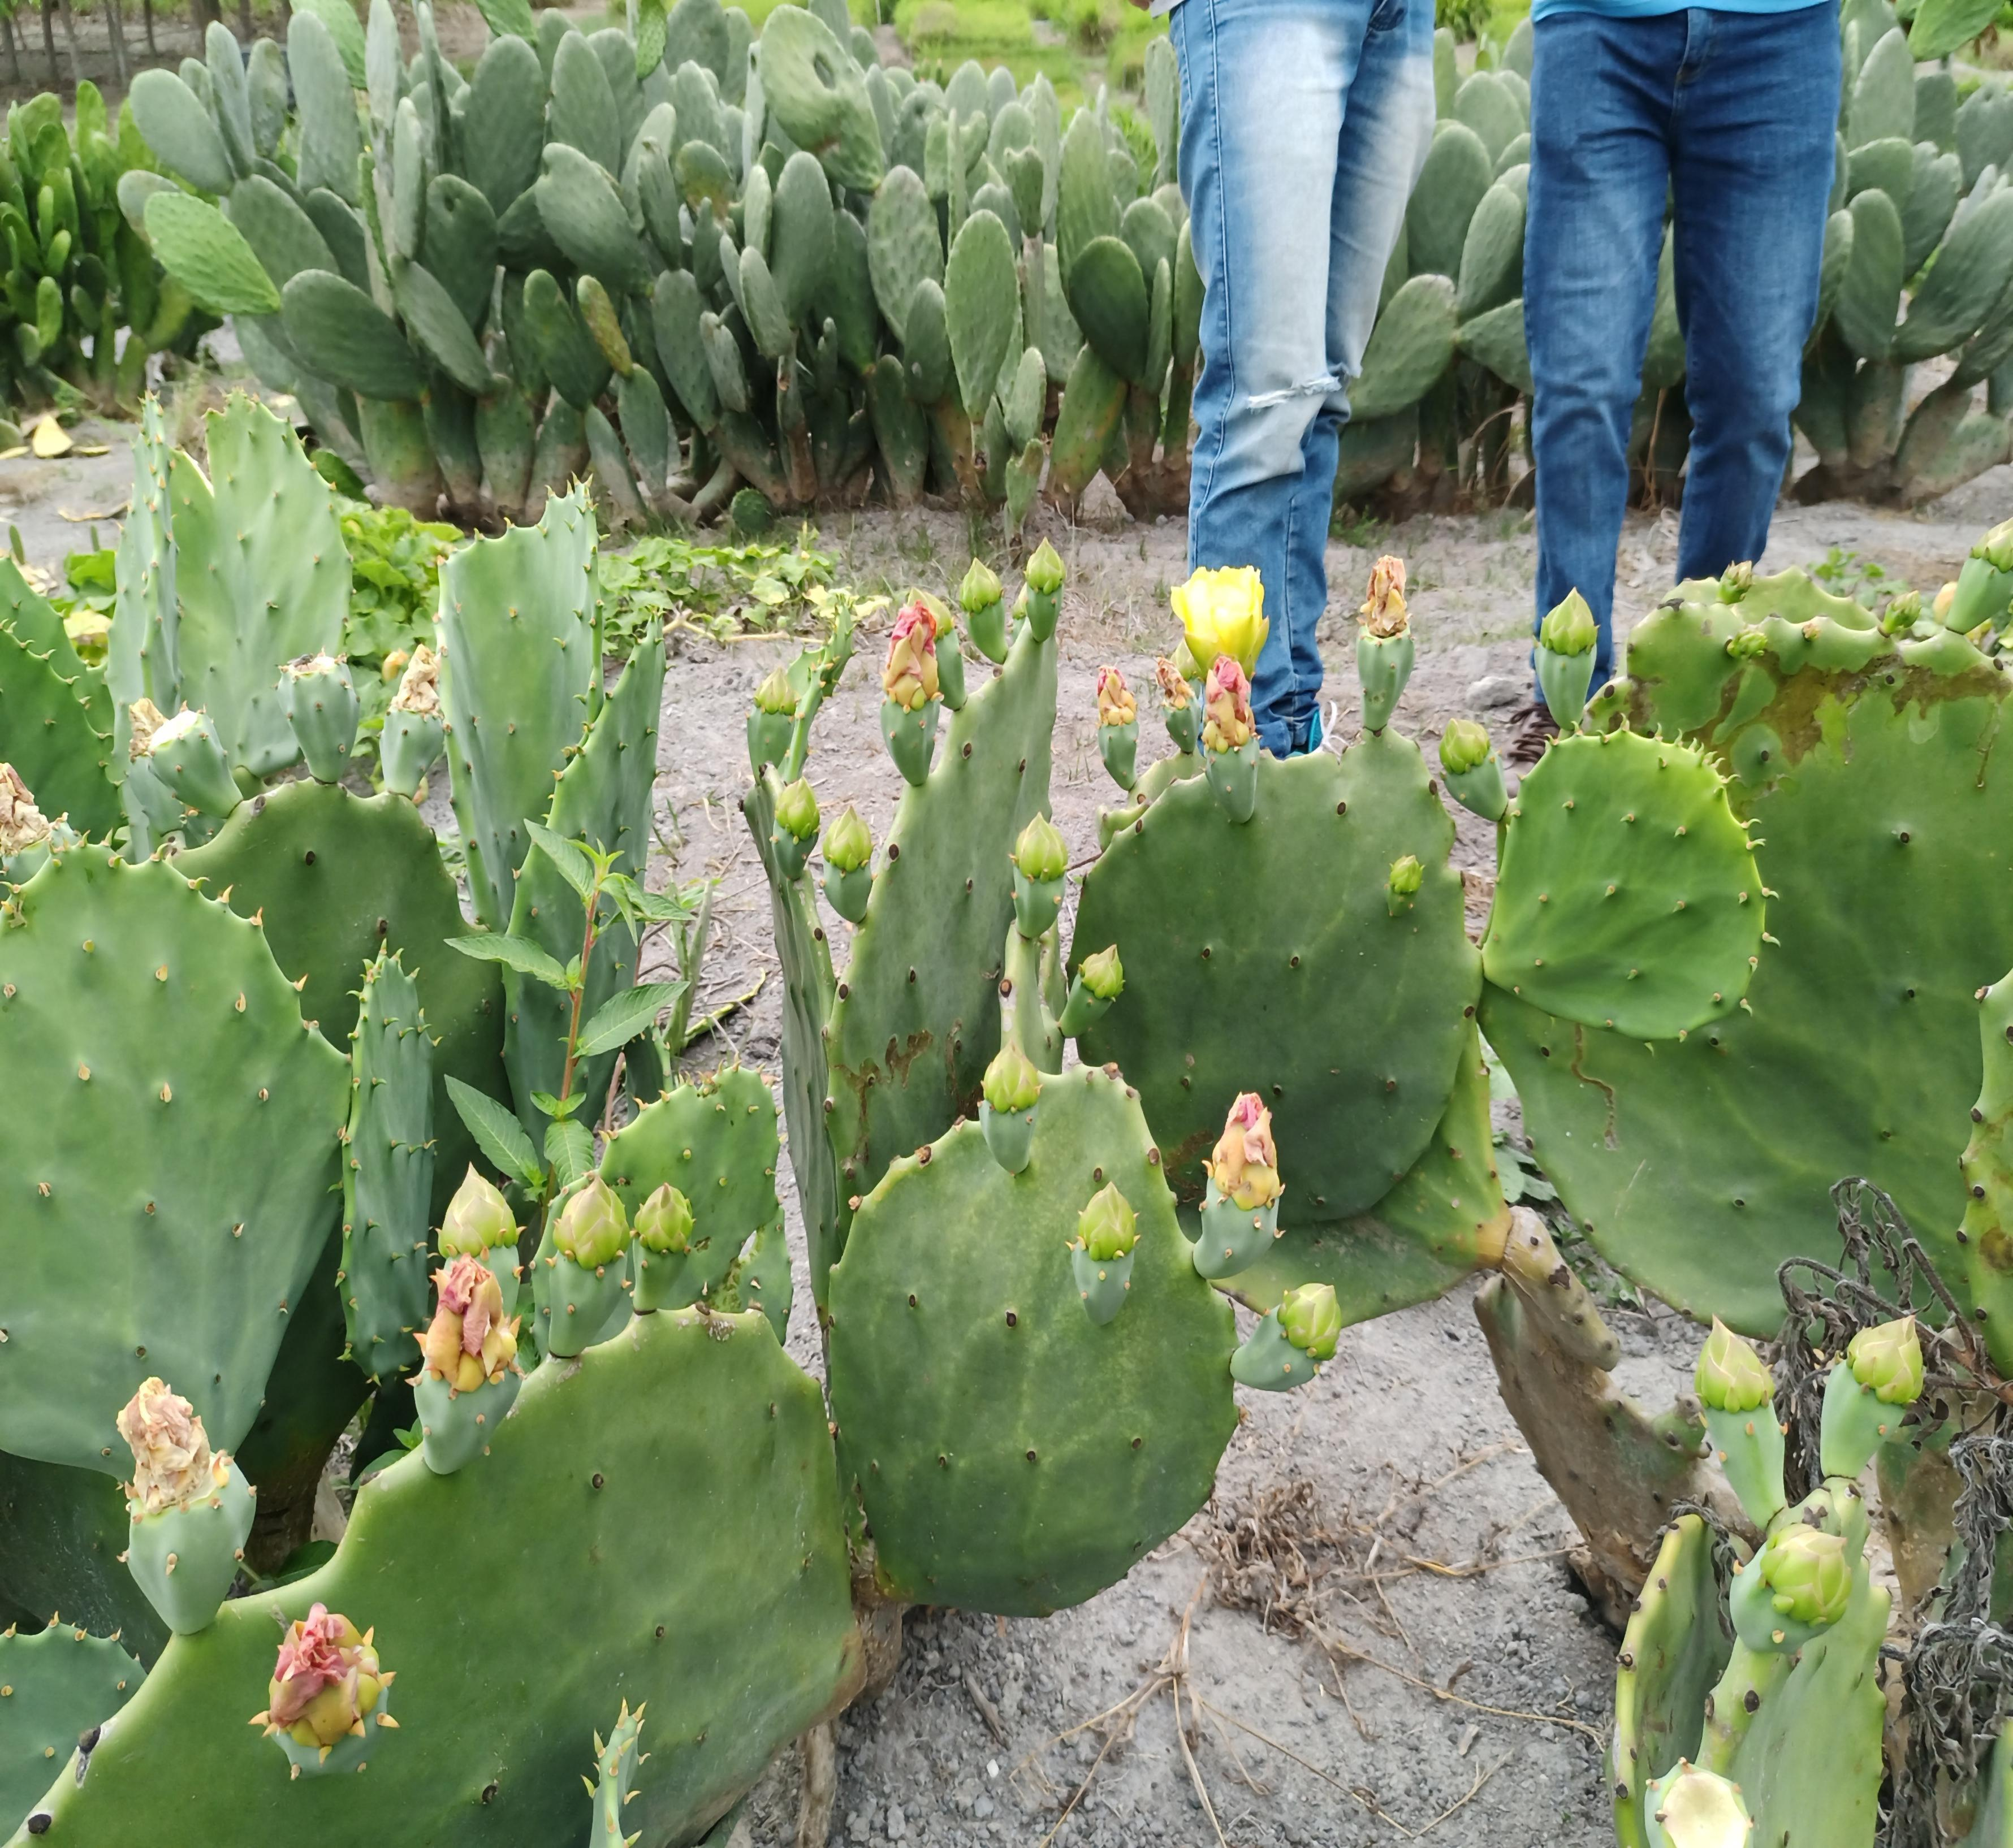impropria: (28, 1285, 845, 1848), (1609, 578, 2013, 1343), (771, 577, 1084, 1192), (1613, 1322, 1950, 1842), (132, 374, 330, 784), (1500, 740, 1777, 1029), (448, 490, 609, 926), (569, 1065, 793, 1285), (286, 284, 438, 391), (543, 149, 651, 278), (1070, 231, 1152, 387)
propria: (1080, 712, 1489, 1265), (835, 1053, 1225, 1616), (1, 833, 347, 1465), (157, 199, 286, 324), (773, 140, 833, 356), (871, 154, 936, 350), (953, 215, 1013, 419), (135, 72, 236, 195), (278, 19, 353, 181), (472, 33, 541, 201), (559, 31, 619, 167)
